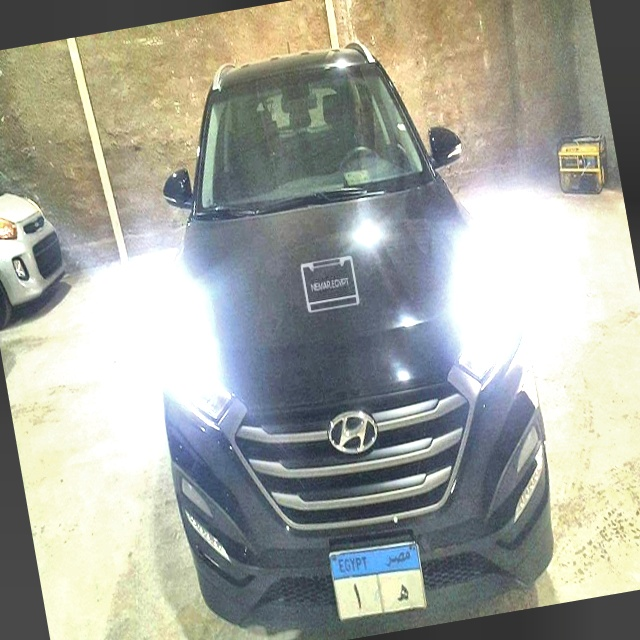License Plate: (324, 533, 432, 630)
